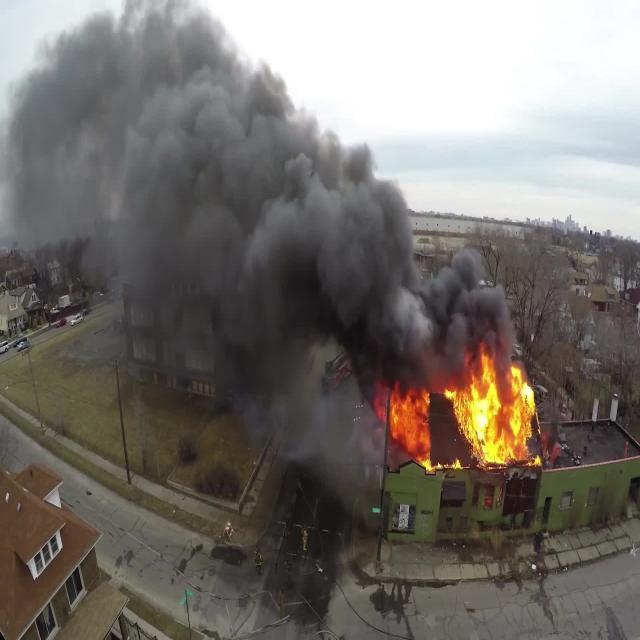Fire: (376, 346, 554, 478)
Smoke: (0, 0, 402, 504), (402, 225, 524, 376)
